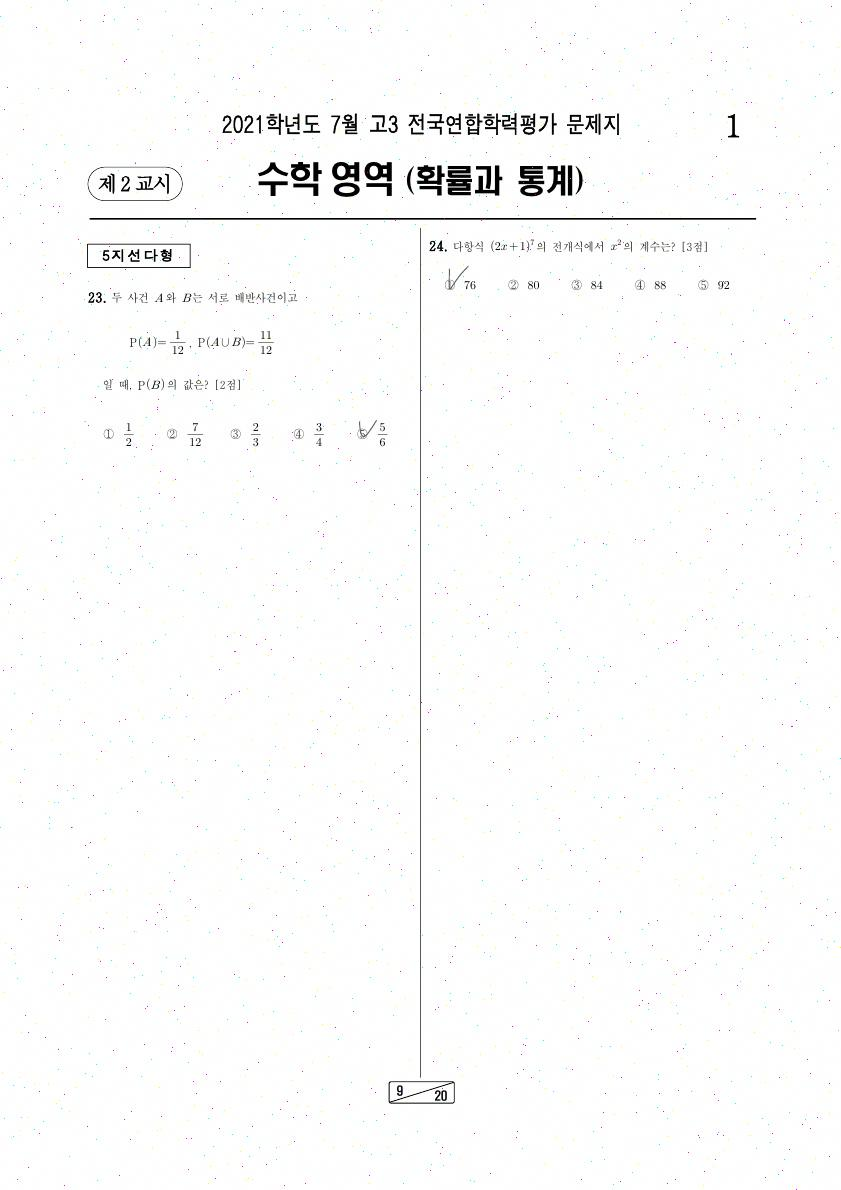question: (72, 275, 406, 467), (421, 227, 742, 313)
